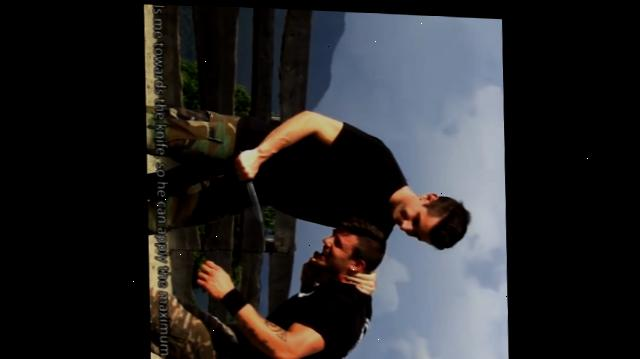pocket-knife: (226, 140, 265, 219)
